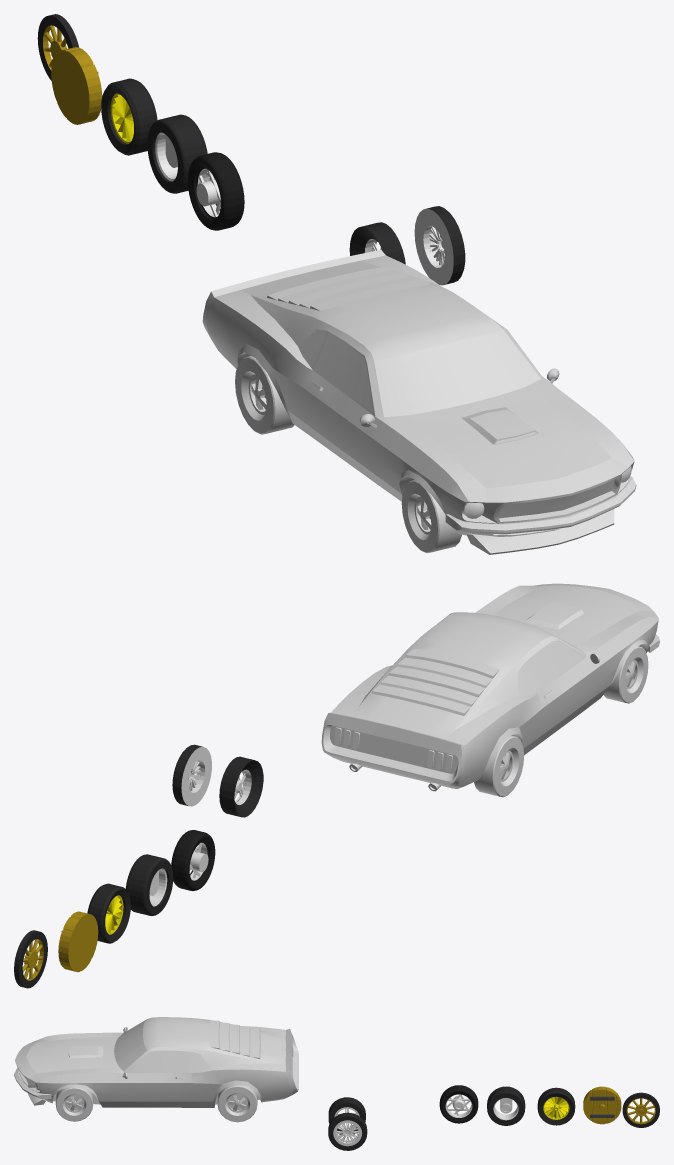
Rendered from колесо5.fbx.
3 views of the same model, one above another, from view 1: azimuth 30°, elevation 25°; view 2: azimuth 150°, elevation 25°; view 3: azimuth 270°, elevation 25° (orthographic). The views are drawn at different scales.
Visible parts, largest first — view 1: Body, КОЛЕСО 4, КОЛЕСО 5, КОЛЕСО 6, КОЛЕСО 3, КОЛЕСО 7, RearRightWheel, FrontRightWheel, КОЛЕСО 1, КОЛЕСО 2; view 2: Body, КОЛЕСО 5, КОЛЕСО 4, КОЛЕСО 2, КОЛЕСО 3, КОЛЕСО 7, КОЛЕСО 6, RearRightWheel, FrontRightWheel, КОЛЕСО 1; view 3: Body, RearLeftWheel, КОЛЕСО 3, КОЛЕСО 7, КОЛЕСО 6, КОЛЕСО 5, КОЛЕСО 4, FrontLeftWheel, КОЛЕСО 1, КОЛЕСО 2.
Boxes of the visible parts, x1,y1,x2,y2 form: Body: [202, 250, 636, 554]; КОЛЕСО 4: [187, 152, 244, 230]; КОЛЕСО 5: [147, 114, 207, 193]; КОЛЕСО 6: [101, 78, 157, 155]; КОЛЕСО 3: [414, 206, 465, 285]; КОЛЕСО 7: [51, 47, 102, 124]; RearRightWheel: [235, 356, 294, 434]; FrontRightWheel: [401, 480, 461, 553]; КОЛЕСО 1: [37, 14, 79, 80]; КОЛЕСО 2: [349, 222, 405, 264]; Body: [321, 583, 659, 791]; КОЛЕСО 5: [125, 854, 173, 915]; КОЛЕСО 4: [171, 830, 215, 890]; КОЛЕСО 2: [219, 756, 263, 817]; КОЛЕСО 3: [172, 744, 211, 806]; КОЛЕСО 7: [58, 911, 98, 972]; КОЛЕСО 6: [87, 883, 130, 943]; RearRightWheel: [474, 735, 524, 797]; FrontRightWheel: [603, 646, 648, 703]; КОЛЕСО 1: [14, 930, 47, 988]; Body: [14, 1017, 298, 1107]; RearLeftWheel: [217, 1085, 257, 1122]; КОЛЕСО 3: [328, 1112, 367, 1150]; КОЛЕСО 7: [583, 1086, 621, 1124]; КОЛЕСО 6: [537, 1087, 575, 1125]; КОЛЕСО 5: [487, 1086, 525, 1125]; КОЛЕСО 4: [439, 1085, 478, 1123]; FrontLeftWheel: [55, 1087, 93, 1121]; КОЛЕСО 1: [622, 1092, 659, 1127]; КОЛЕСО 2: [328, 1097, 365, 1134].
Size of the model in its own units: 338 by 148 by 1229.
